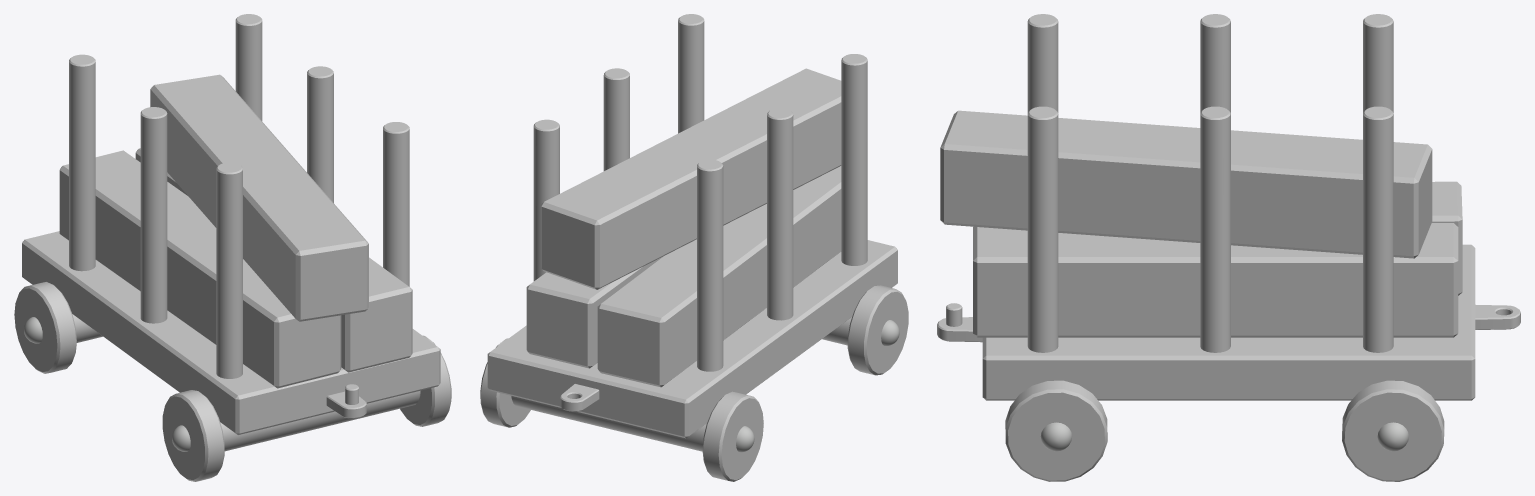
File: WoodenTrainToy_TrainCar_02.fbx
3 renders of one model, left to right at view 1: azimuth 30°, elevation 25°; view 2: azimuth 150°, elevation 25°; view 3: azimuth 270°, elevation 25°, orthographic. The views are drawn at different scales.
Visible parts, largest first — view 1: TrainCar02; view 2: TrainCar02; view 3: TrainCar02.
Part boxes in pixels (box(x1,y1,x2,y2)): TrainCar02: box(14, 14, 451, 481); TrainCar02: box(480, 14, 908, 481); TrainCar02: box(937, 14, 1520, 481).
Size of the model in its own units: 11.02 by 12.1 by 18.35.
